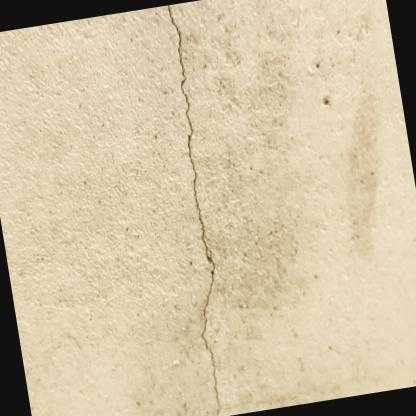crack: (167, 4, 219, 416)
